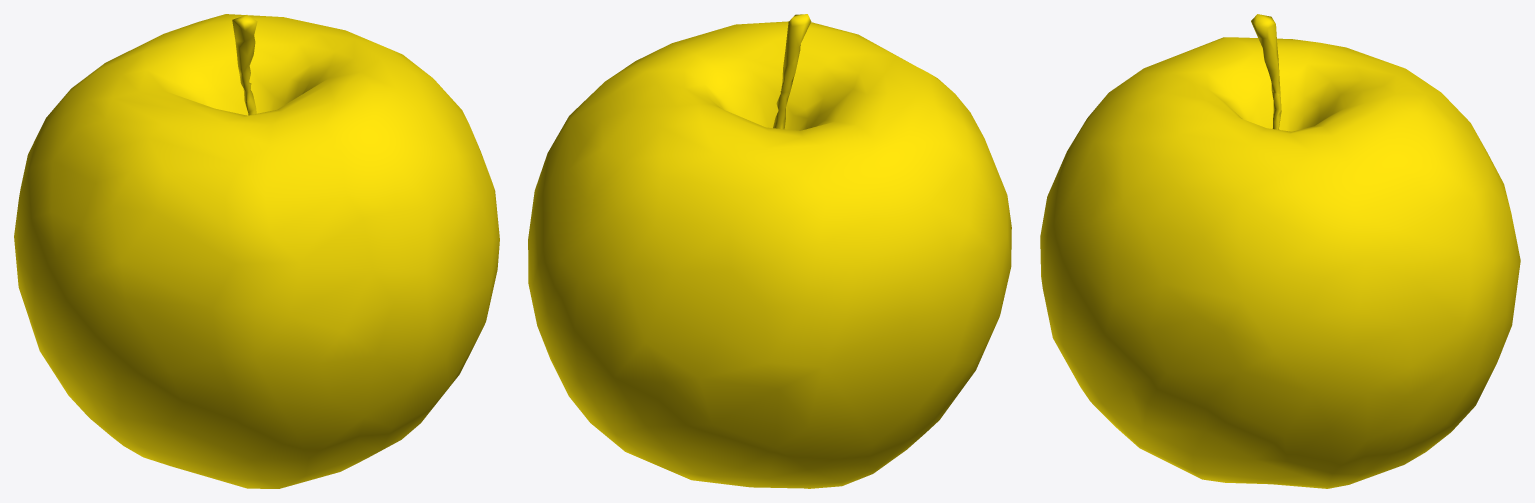
Rendered from nr-apple-2.glb.
3 renders of one model, left to right at view 1: azimuth 30°, elevation 25°; view 2: azimuth 150°, elevation 25°; view 3: azimuth 270°, elevation 25°, orthographic. The views are drawn at different scales.
Visible parts, largest first — view 1: nr-apple-2-0; view 2: nr-apple-2-0; view 3: nr-apple-2-0.
Part boxes in pixels (x1,y1,x2,y2): nr-apple-2-0: (14,14,499,488); nr-apple-2-0: (528,14,1011,488); nr-apple-2-0: (1040,14,1520,488).
Size of the model in its own units: 0.9954 by 0.9931 by 1.
